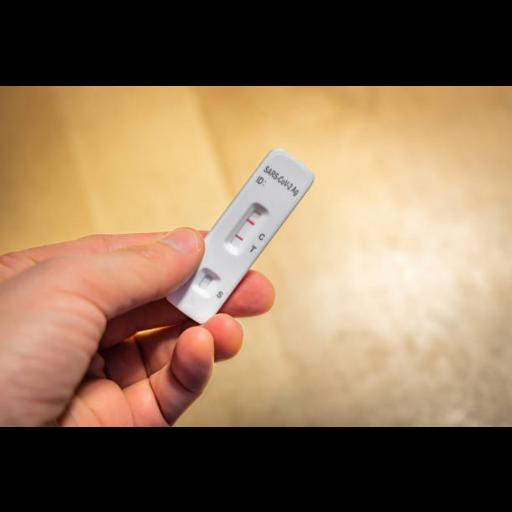Pos: (159, 146, 318, 325)
